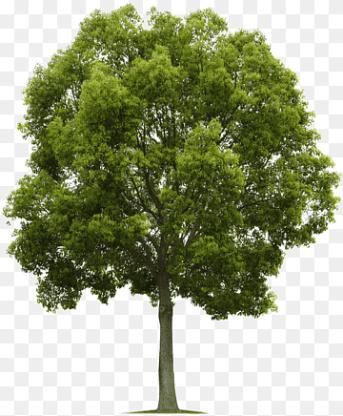tree: (2, 1, 342, 416)
